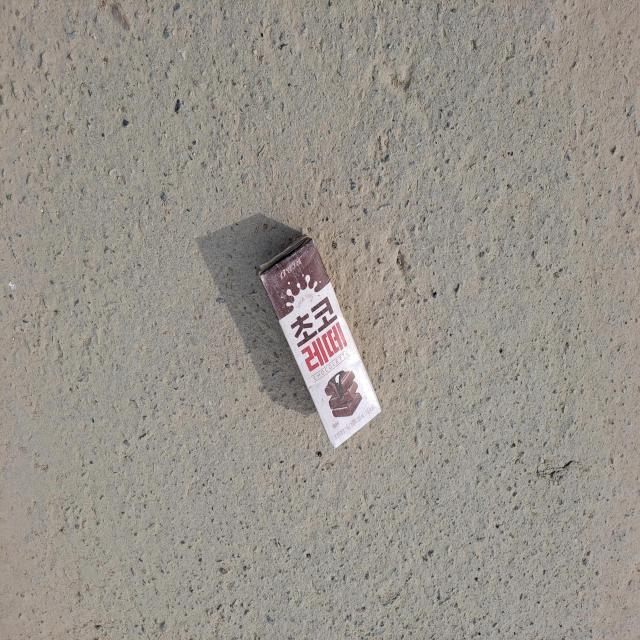paperpack: (257, 234, 381, 448)
